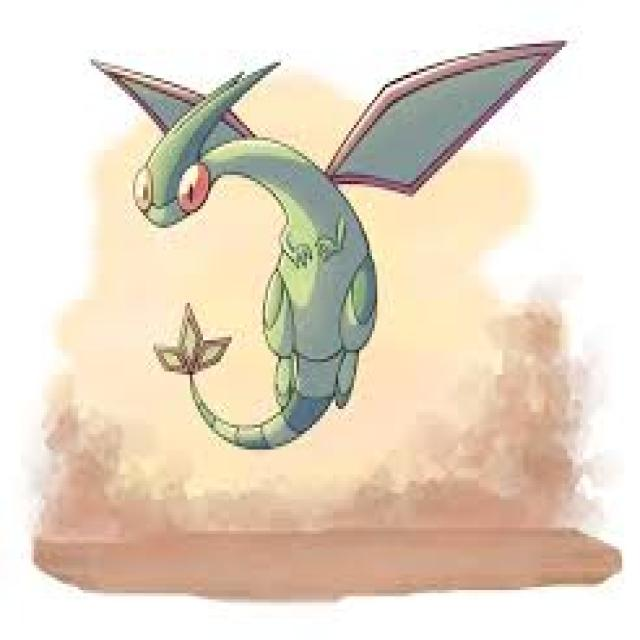flygon: (89, 38, 572, 455)
